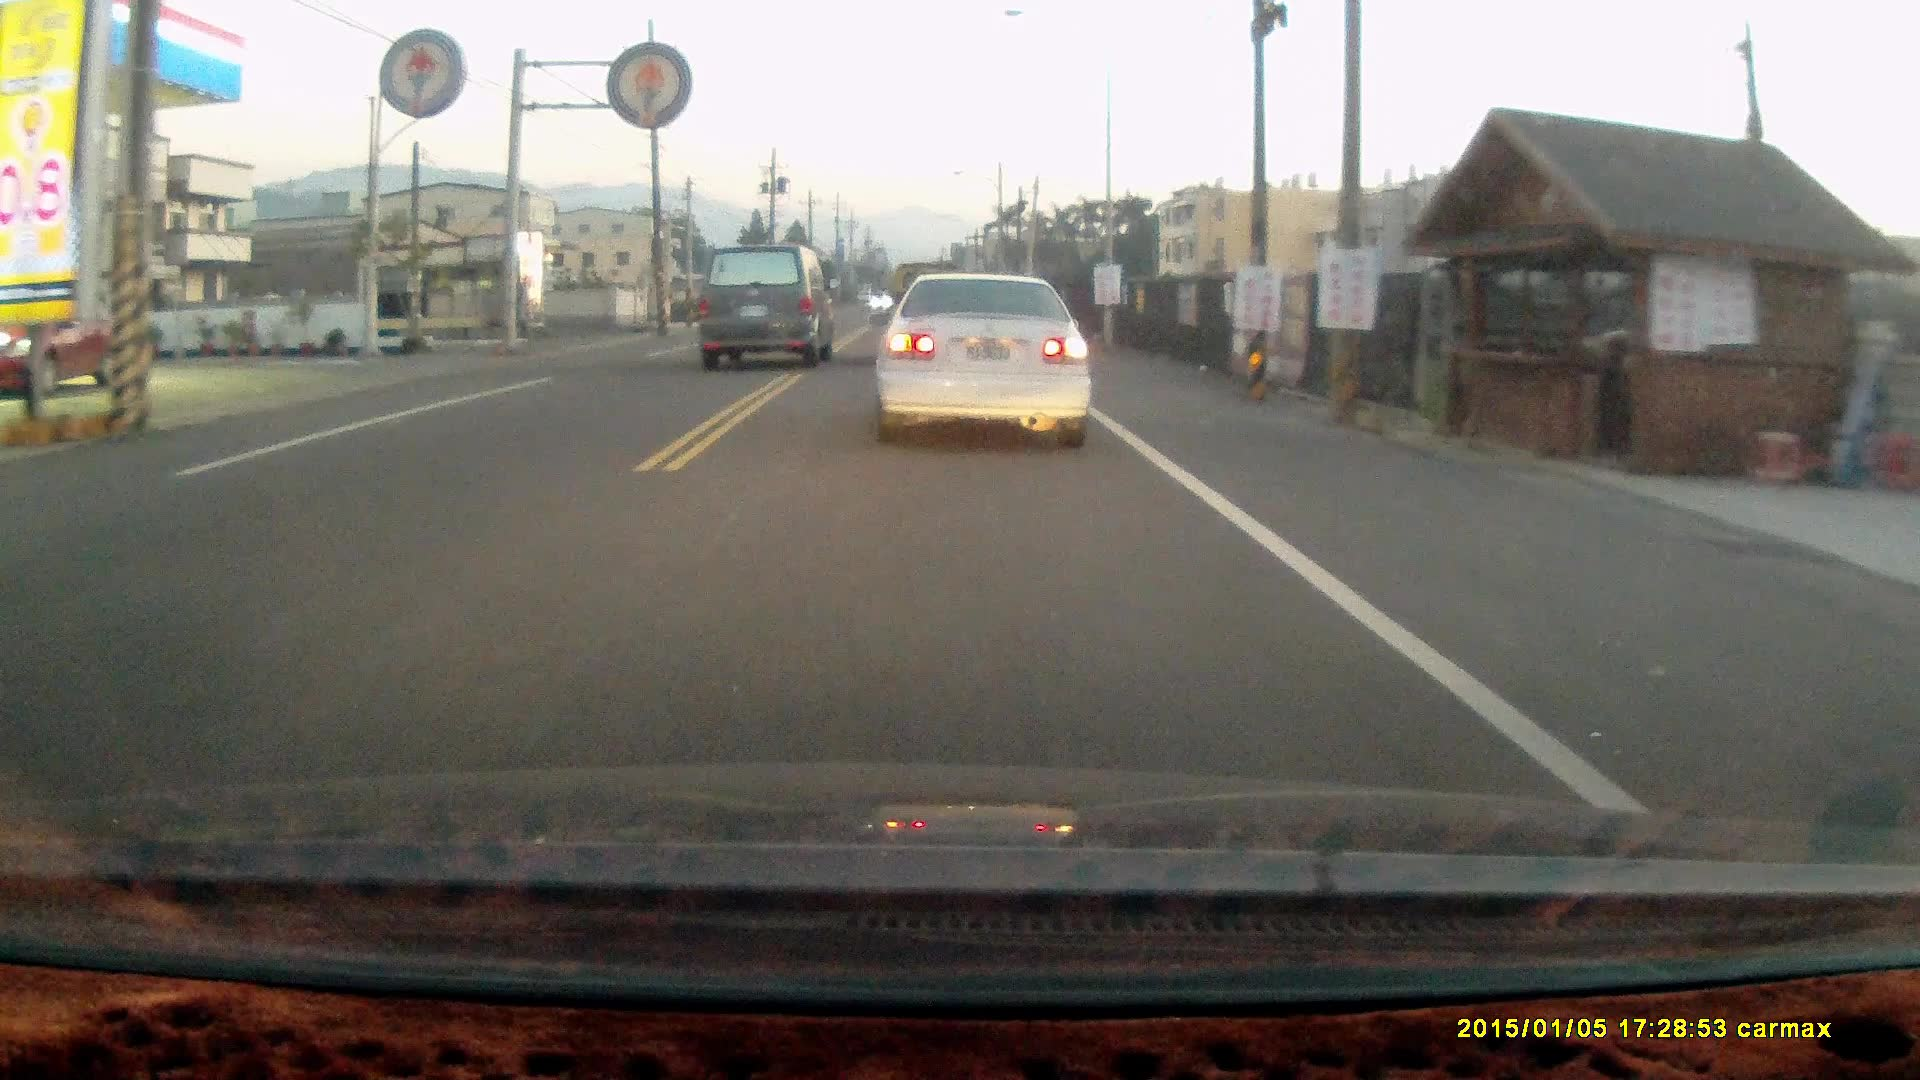pedestrian: (1599, 331, 1644, 432)
vehicle: (869, 268, 1095, 456), (692, 244, 838, 374), (4, 294, 131, 396)
